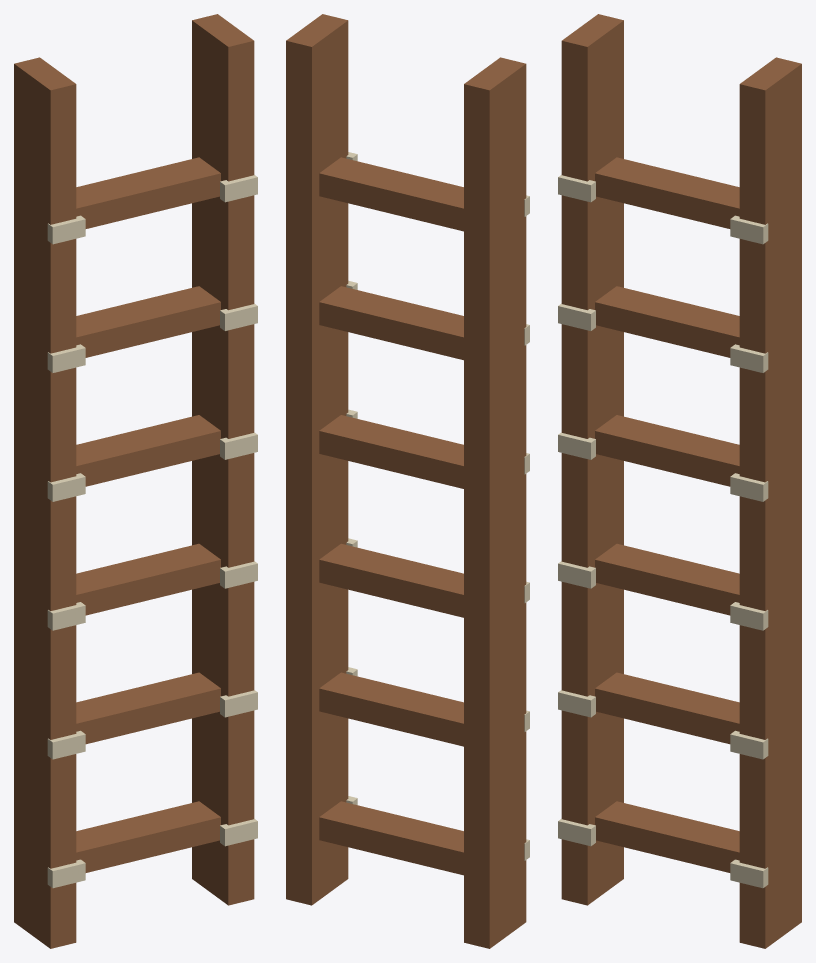
File: board_escada.glb
The picture shows the model from 3 angles, left to right: view 1: azimuth 30°, elevation 25°; view 2: azimuth 150°, elevation 25°; view 3: azimuth 330°, elevation 25°; orthographic projection.
Visible parts, largest first — view 1: board_escada; view 2: board_escada; view 3: board_escada.
Part boxes in pixels (left/top/right/bottom): board_escada: left=14, top=14, right=257, bottom=948; board_escada: left=286, top=14, right=529, bottom=948; board_escada: left=558, top=14, right=801, bottom=948.
Bounding box in the file's own units: 1.5 × 6 × 0.5.
